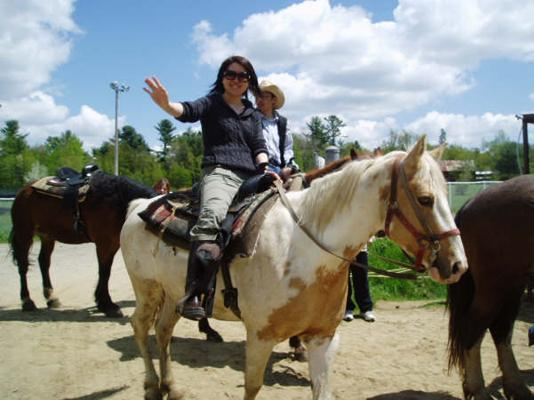person: (142, 57, 270, 318)
